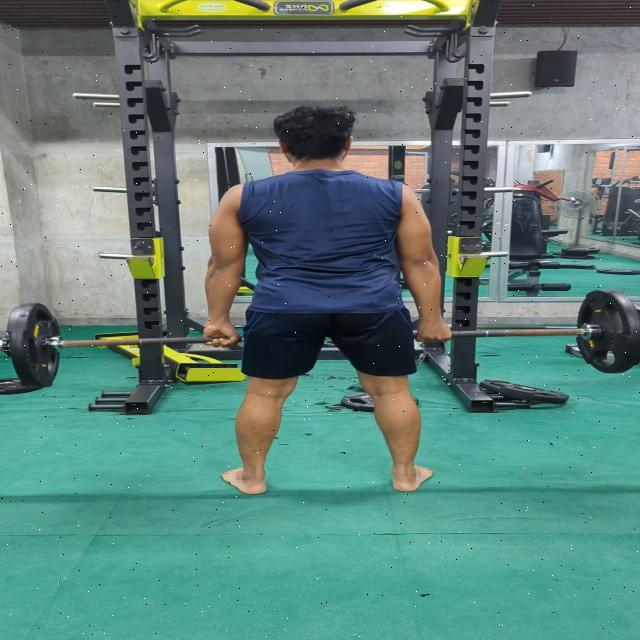Normal_Deadlifts: (195, 103, 460, 498)
